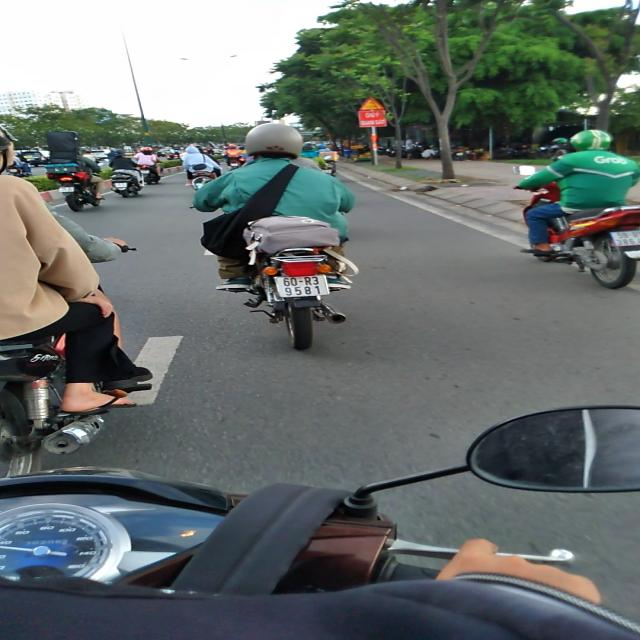Nguy hiem: (358, 97, 385, 111)
